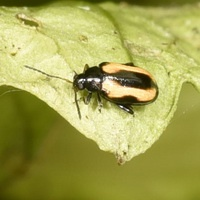insect: (25, 62, 157, 118)
